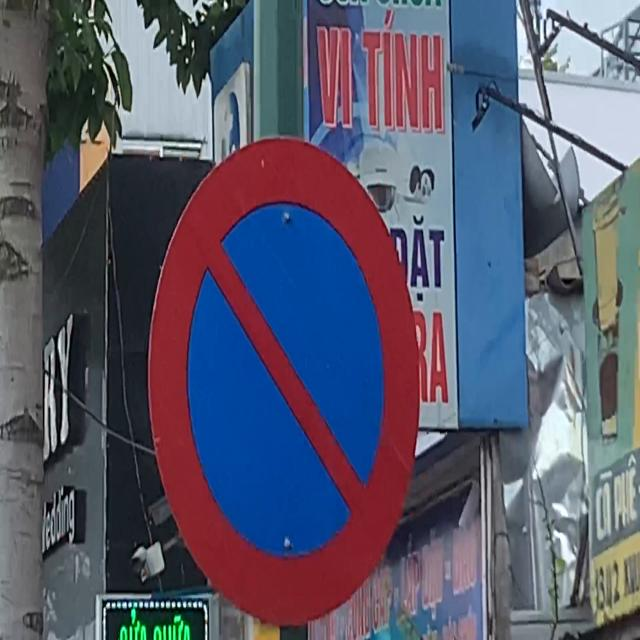Cam do: (143, 123, 441, 628)
